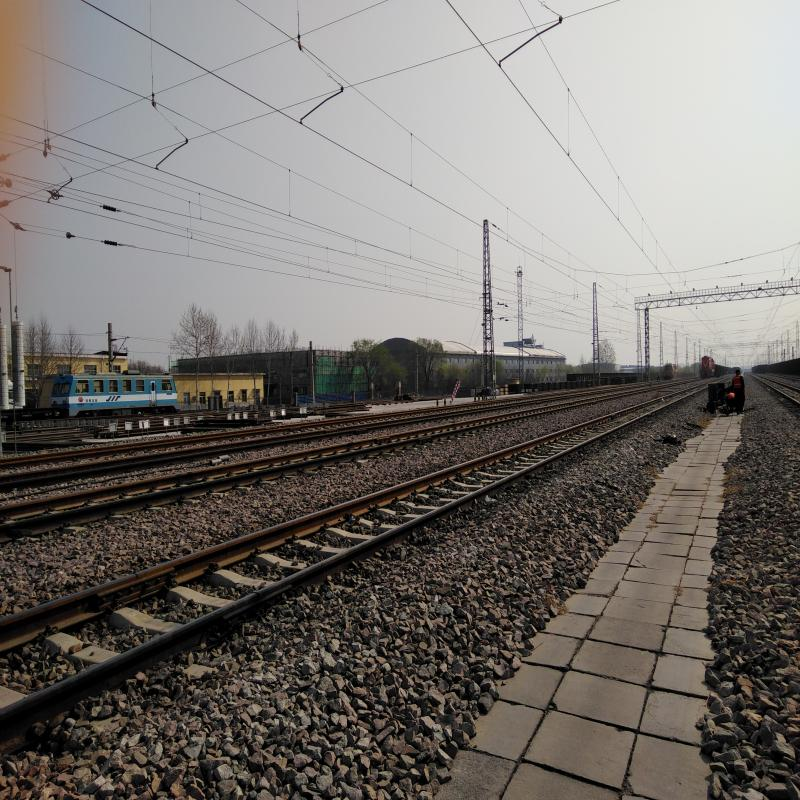train: (59, 374, 180, 416)
